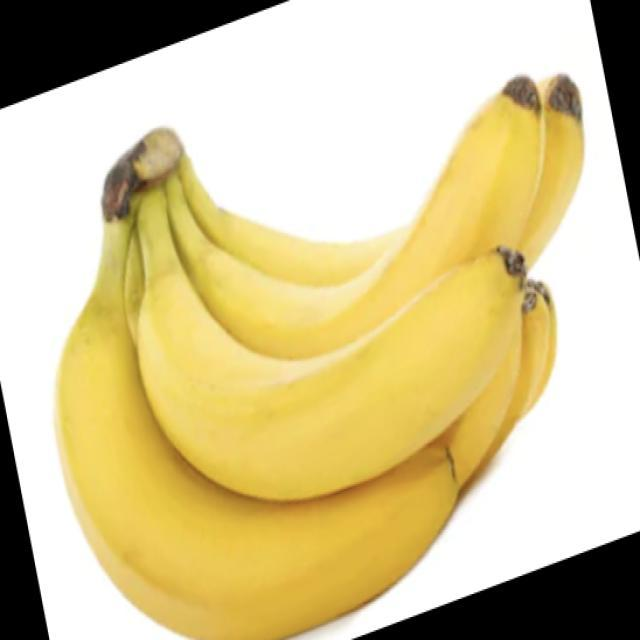Banana: (52, 72, 584, 639)
